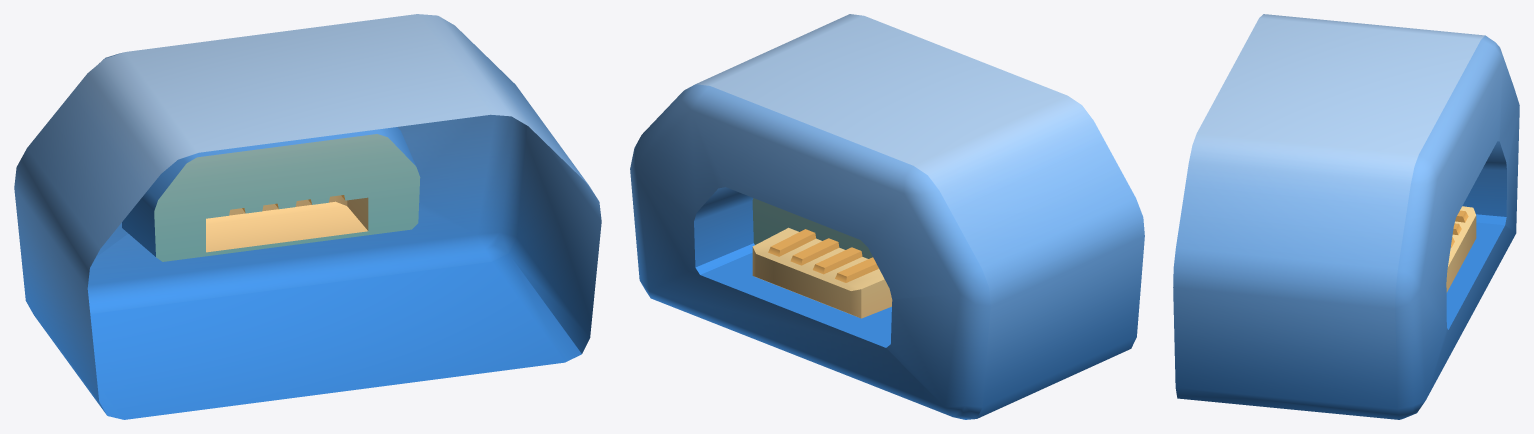
File: MICRO port blue_fan.fbx
3 views of the same model, side by side, from view 1: azimuth 30°, elevation 25°; view 2: azimuth 150°, elevation 25°; view 3: azimuth 270°, elevation 25° (orthographic). The views are drawn at different scales.
Parts seen in each view (by area): view 1: MICRO_port_blue_fan; view 2: MICRO_port_blue_fan; view 3: MICRO_port_blue_fan.
Part boxes in pixels (x1=…): MICRO_port_blue_fan: x1=14, y1=14, x2=601, y2=419; MICRO_port_blue_fan: x1=630, y1=14, x2=1144, y2=419; MICRO_port_blue_fan: x1=1173, y1=14, x2=1519, y2=419.
Size of the model in its own units: 24.23 by 11.87 by 15.87.
